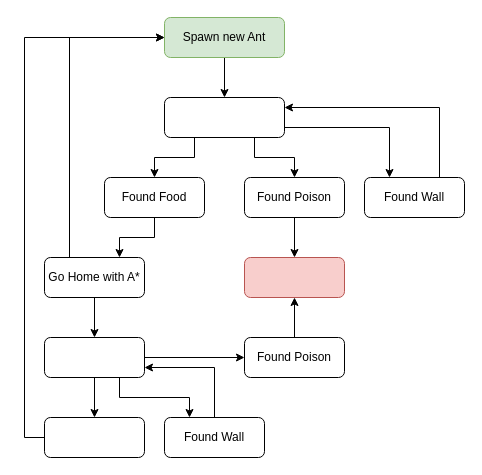
Some shapes in this 482 by 475 pixel diagram are drawn without their labels. Here are the shapes that lost their labels. From the top down, the centre of each, then its label:
At point (224, 117): "Look For Food Randomly".
At point (294, 277): "Death".
At point (94, 357): "Look For Water Randomly".
At point (94, 437): "Found Water".
